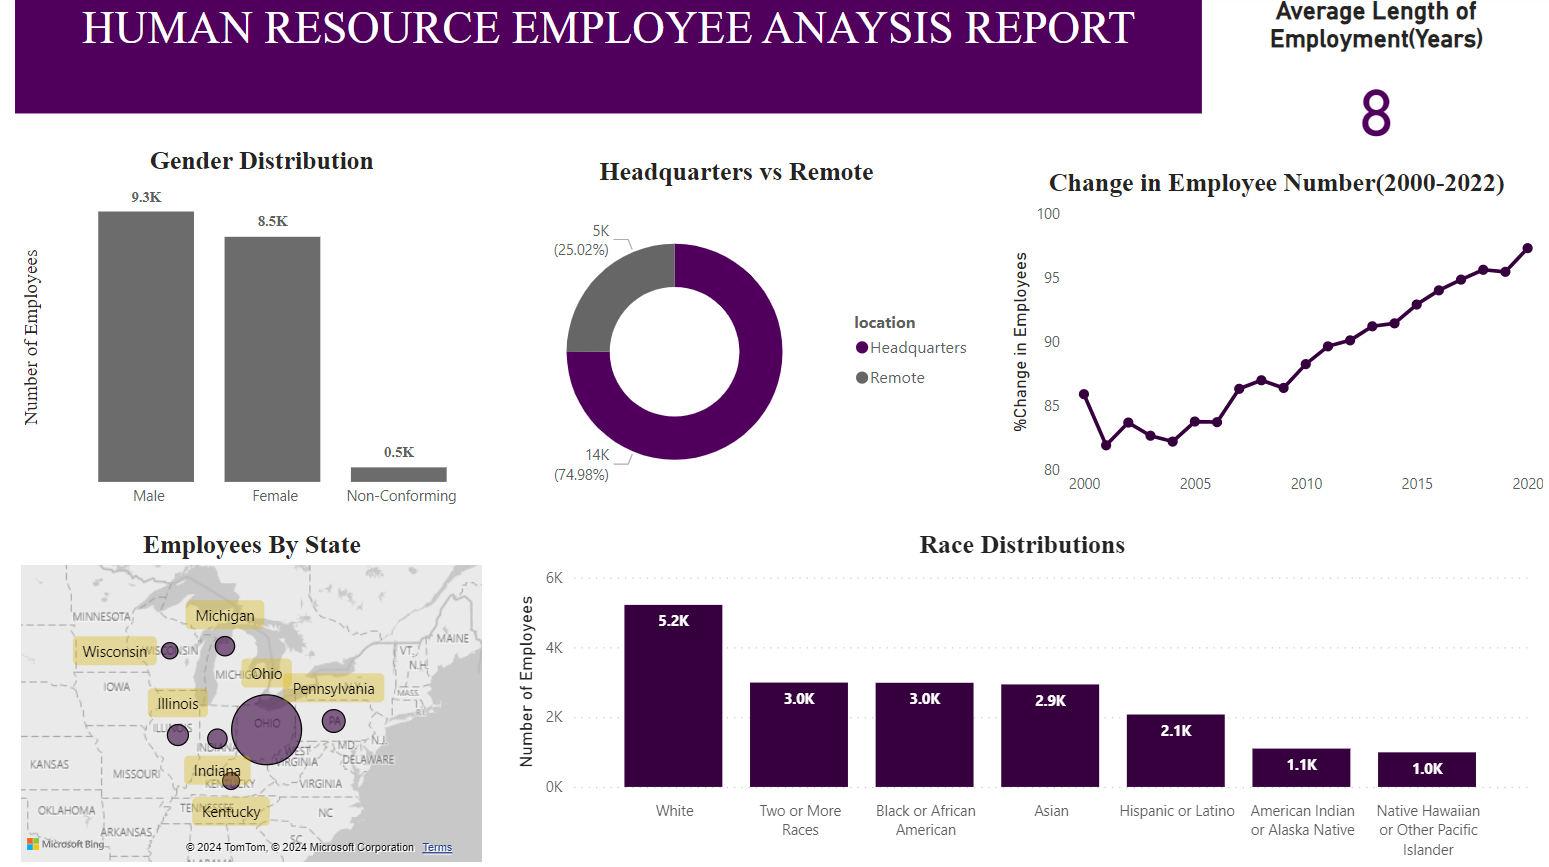

What the dashboard file says about the page in this screenshot:
{"tool":"powerbi","page":{"name":"Page 1","canvas":[1280,720],"ordinal":0},"visuals":[{"type":"textbox","box":[13.6,0,980.4,97.3],"z":0},{"type":"card","title":"Average Length of Employment(Years)","fields":{"Values":["Sum(avg_len_employment.avg_len_enployment)"]},"box":[994,0,286,133.3],"z":1000},{"type":"columnChart","title":"Gender Distribution","fields":{"Category":["gender.gender"],"Y":["Sum(gender.Count)"]},"box":[13.6,123.5,407.5,307.4],"z":2000},{"type":"donutChart","title":"Headquarters vs Remote","fields":{"Y":["Sum(location.count)"],"Category":["location.location"]},"box":[404.6,133.3,408.5,297.6],"z":3000},{"type":"lineChart","title":"Change in Employee Number(2000-2022)","fields":{"Category":["employee_change.year"],"Y":["Sum(employee_change.net_change_percent)"]},"box":[829.7,142,450.3,279.1],"z":4000},{"type":"map","title":"Employees By State","fields":{"Category":["state.location_state"],"Size":["Sum(state.count)"]},"box":[13.6,440.6,391,279.1],"z":5000},{"type":"clusteredColumnChart","title":"Race Distributions","fields":{"Category":["race.race"],"Y":["Sum(race.count)"]},"box":[422.1,440.6,846.2,279.1],"z":6000}]}

Visuals, with their boxes in screenshot pixels (x1, y1, x2, y2), scaled from the page's 1280x720 canvas onto the 1549x867 screenshot:
textbox: left=16, top=0, right=1203, bottom=117
"Average Length of Employment(Years)" card: left=1203, top=0, right=1548, bottom=161
"Gender Distribution" columnChart: left=16, top=149, right=510, bottom=519
"Headquarters vs Remote" donutChart: left=490, top=161, right=984, bottom=519
"Change in Employee Number(2000-2022)" lineChart: left=1004, top=171, right=1548, bottom=507
"Employees By State" map: left=16, top=531, right=490, bottom=866
"Race Distributions" clusteredColumnChart: left=511, top=531, right=1535, bottom=866
